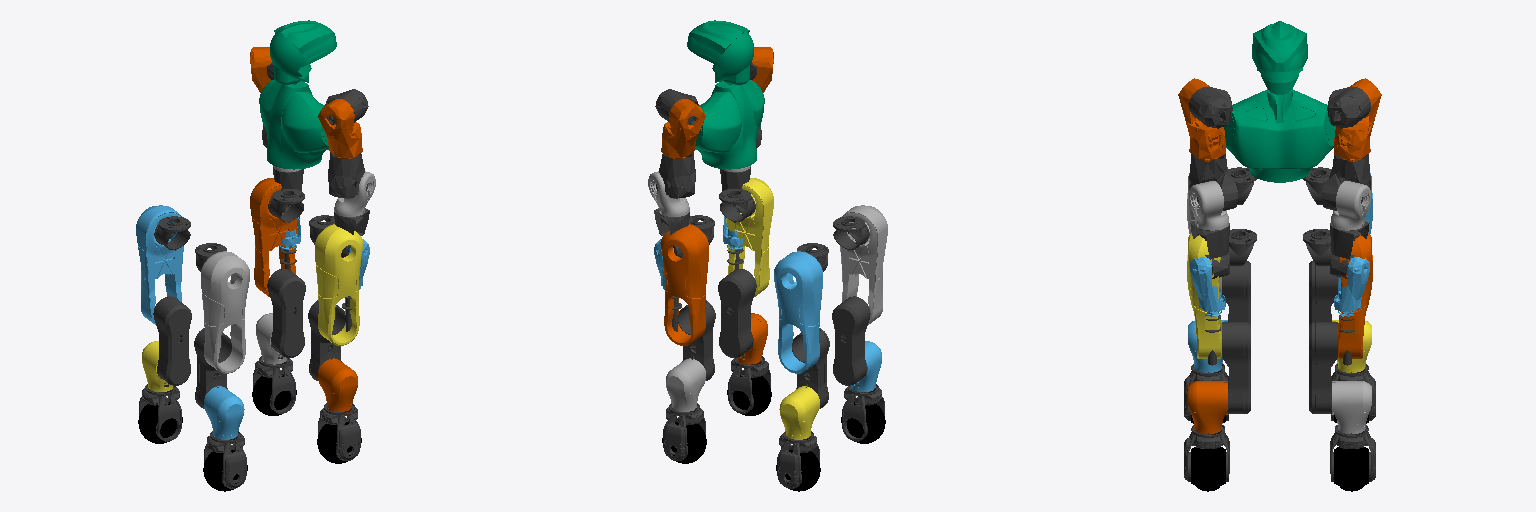
--- Render facts (derived) ---
Views: 3 orthographic renders of the robot side by side, from view 1: azimuth 30°, elevation 25°; view 2: azimuth 150°, elevation 25°; view 3: azimuth 270°, elevation 25°.
Robot: centauro — 44 links, 43 joints (35 revolute, 4 continuous, 4 fixed); root link world; default pose: all joints at 0.
Links seen in each view (by area): view 1: torso_2, hip2_4, hip2_2, hip2_3, knee_1, knee_3, hip2_1, arm2_2, ankle1_4, ankle1_2, ankle2_4, ankle2_2 (+17 smaller); view 2: torso_2, hip2_3, hip2_1, hip2_4, knee_2, knee_4, hip2_2, arm1_2, ankle1_3, ankle1_1, ankle2_3, ankle2_1 (+18 smaller); view 3: torso_2, knee_1, knee_2, hip2_1, hip2_2, ankle1_1, ankle1_2, arm1_2, arm2_2, arm1_4, arm2_4, knee_3 (+21 smaller).
Link boxes in pixels (x1,y1,x2,y2): torso_2: (259,20,336,169); hip2_4: (201,251,249,373); hip2_2: (315,224,363,345); hip2_3: (136,205,183,324); knee_1: (267,269,305,357); knee_3: (153,296,191,385); hip2_1: (250,178,297,296); arm2_2: (318,99,362,158); ankle1_4: (204,386,244,439); ankle1_2: (318,358,357,411); ankle2_4: (204,431,246,488); ankle2_2: (318,403,360,460); torso_2: (687,20,764,169); hip2_3: (774,251,822,373); hip2_1: (660,224,708,345); hip2_4: (840,205,887,324); knee_2: (718,269,756,357); knee_4: (832,296,870,385); hip2_2: (726,178,773,296); arm1_2: (661,99,705,158); ankle1_3: (779,386,819,439); ankle1_1: (666,358,705,411); ankle2_3: (777,431,819,488); ankle2_1: (663,403,705,460); torso_2: (1224,21,1335,182); knee_1: (1309,322,1337,414); knee_2: (1222,322,1250,414); hip2_1: (1338,233,1372,358); hip2_2: (1187,233,1221,358); ankle1_1: (1332,381,1371,433); ankle1_2: (1188,381,1227,433); arm1_2: (1334,78,1381,161); arm2_2: (1178,78,1225,161); arm1_4: (1331,181,1371,230); arm2_4: (1188,181,1228,230); knee_3: (1309,261,1337,324).
Size in the robot's own frame: 0.6633 by 0.6319 by 1.57 metres.
Meshes: 16 distinct files referenced, 41 mesh visuals loaded (15 binary STL); not drawn: 1 (reference not matched to a file when rendering).

robot.urdf — centauro:
<?xml version="1.0" ?>
<!-- =================================================================================== -->
<!-- |    This document was autogenerated by xacro from centauro_urdf/urdf/centauro.urdf.xacro | -->
<!-- |    EDITING THIS FILE BY HAND IS NOT RECOMMENDED                                 | -->
<!-- =================================================================================== -->
<robot name="centauro" xmlns:xacro="http://www.ros.org/wiki/xacro">
  <!-- /constants -->
  <!-- Here all arguments from launch file are evaluated to the final xacro poropeties.
     Also all the parameter dependencies are resolved-->
  <material name="grey">
    <color rgba="0.5 0.5 0.5 1"/>
  </material>
  <material name="dark_grey">
    <color rgba="0.3 0.3 0.3 1"/>
  </material>
  <material name="blue">
    <color rgba="0.0 0.2 0.3 1"/>
  </material>
  <material name="red">
    <color rgba="0.5 0.1 0.2 1"/>
  </material>
  <material name="black">
    <color rgba="0.0 0.0 0.0 1"/>
  </material>
  <!-- Here all arguments from launch file are evaluated to the final xacro poropeties.
     Also all the parameter dependencies are resolved-->
  <!-- load proper collision model -->
  <!-- load proper collision model -->
  <!-- load proper collision model -->
  <!-- Here all arguments from launch file are evaluated to the final xacro poropeties.
     Also all the parameter dependencies are resolved-->
  <!-- load proper collision model -->
  <!-- load proper collision model -->
  <!-- load proper collision model -->
  <!-- /macro legs -->
  <!-- /macro arms -->
  <!-- /other files -->
  <!-- reference -->
  <link name="world"/>
  <link name="pelvis">
    <inertial>
      <origin xyz="-0.013541342 -0.0029098264 0.18060721"/>
      <mass value="24.190945"/>
      <inertia ixx="0.20021119" ixy="-0.0038421093" ixz="-0.033298849" iyy="0.51136214" iyz="0.004469847" izz="0.54401411"/>
    </inertial>
    <visual>
      <origin rpy="0.0 0.0 0.0" xyz="0.0 0 0.0"/>
      <geometry>
        <mesh filename="package://centauro/centauro_urdf/meshes/pelvis.stl" scale="0.001 0.001 0.001"/>
      </geometry>
    </visual>
    <collision>
      <origin rpy="0.0 0.0 0.0" xyz="0.0 0 0.0"/>
      <geometry>
        <mesh filename="package://centauro/centauro_urdf/meshes/convex_hull/pelvis.stl" scale="0.001 0.001 0.001"/>
      </geometry>
    </collision>
  </link>
  <joint name="reference" type="fixed">
    <origin xyz="0.0 0.0 0.759"/>
    <parent link="world"/>
    <child link="pelvis"/>
  </joint>
  <!-- /reference  -->
  <!-- torso links -->
  <link name="torso_2">
    <inertial>
      <origin xyz="0.0047281261 0.00038307386 0.14972892"/>
      <mass value="4.5494226"/>
      <!-- mass  7: torso_1 (2) + torso_2 (5), head un_modelled -->
      <inertia ixx="0.063643392" ixy="8.939e-05" ixz="-0.00086873" iyy="0.02680235" iyz="-4.657e-05" izz="0.04743015"/>
    </inertial>
    <visual>
      <origin rpy="0.0 0.0 0.0" xyz="0.0 0 0.0"/>
      <geometry>
        <mesh filename="package://centauro/centauro_urdf/meshes/link1.stl" scale="0.001 0.001 0.001"/>
      </geometry>
    </visual>
    <collision>
      <origin rpy="0.0 0.0 0.0" xyz="0.0 0 0.0"/>
      <geometry>
        <mesh filename="package://centauro/centauro_urdf/meshes/convex_hull/link1.stl" scale="0.001 0.001 0.001"/>
      </geometry>
    </collision>
  </link>
  <link name="imu_link">
    <inertial>
      <mass value="0.0"/>
      <!-- mass  7: torso_1 (2) + torso_2 (5), head un_modelled -->
      <inertia ixx="0.0" ixy="0.0" ixz="0.0" iyy="0.0" iyz="0.0" izz="0.0"/>
    </inertial>
  </link>
  <!-- /torso links -->
  <!-- torso joints -->
  <joint name="torso_yaw" type="revolute">
    <parent link="pelvis"/>
    <origin xyz="0.175 0.0 0.36"/>
    <child link="torso_2"/>
    <axis xyz="0 0 1"/>
    <limit effort="147" lower="-2.618" upper="2.618" velocity="5.7"/>
    <!-- TODO -->
  </joint>
  <joint name="imu_joint" type="fixed">
    <parent link="pelvis"/>
    <origin xyz="-0.0704 0.0 -0.0416"/>
    <child link="imu_link"/>
  </joint>
  <!-- /torso joints -->
  <transmission name="t_torso_yaw">
    <type> transmission_interface/SimpleTransmission</type>
    <joint name="torso_yaw">
      <hardwareInterface>EffortJointInterface</hardwareInterface>
    </joint>
    <actuator name="motor_torso_yaw">
      <hardwareInterface>EffortJointInterface</hardwareInterface>
      <machanicalReduction>1</machanicalReduction>
    </actuator>
    <robotNamespace>/centauro</robotNamespace>
  </transmission>
  <!-- /torso actuators -->
  <!-- /torso -->
  <!-- LINKS -->
  <!-- shoulder yaw-roll-->
  <link name="arm1_1">
    <inertial>
      <origin xyz="-0.0031005886 0.040324584 0.007451937"/>
      <mass value="1.5583338"/>
      <inertia ixx="0.0032318636" ixy="4.24587e-05" ixz="4.91626e-05" iyy="0.00275718" iyz="-0.0002387056" izz="0.004275047"/>
    </inertial>
    <visual>
      <origin rpy="0.0 0.0 0.0" xyz="0.0 0.0 0.0"/>
      <geometry>
        <mesh filename="package://centauro/centauro_urdf/meshes/link2.stl" scale="0.001 -0.001 0.001"/>
      </geometry>
      <material name="dark_grey"/>
    </visual>
    <collision>
      <origin rpy="0.0 0.0 0.0" xyz="0.0 0.0 0.0"/>
      <geometry>
        <mesh filename="package://centauro/centauro_urdf/meshes/convex_hull/link2.stl" scale="0.001 -0.001 0.001"/>
      </geometry>
    </collision>
  </link>
  <!-- shoulder yaw-roll-->
  <!-- shoulder roll-pitch-->
  <link name="arm1_2">
    <inertial>
      <origin xyz="0.05105435 0.00011109 -0.07643596"/>
      <mass value="1.515061"/>
      <inertia ixx="0.01029558" ixy="2.846e-05" ixz="0.0036567" iyy="0.01178018" iyz="2.088e-05" izz="0.00386123"/>
    </inertial>
    <visual>
      <origin rpy="0.0 0.0 0.0" xyz="0.0 0.0 0.0"/>
      <geometry>
        <mesh filename="package://centauro/centauro_urdf/meshes/link3.stl" scale="0.001 -0.001 0.001"/>
      </geometry>
    </visual>
    <collision>
      <origin rpy="0.0 0.0 0.0" xyz="0.0 0.0 0.0"/>
      <geometry>
        <mesh filename="package://centauro/centauro_urdf/meshes/convex_hull/link3.stl" scale="0.001 -0.001 0.001"/>
      </geometry>
    </collision>
  </link>
  <!-- shoulder roll-pitch-->
  <!-- shoulder-elbow -->
  <link name="arm1_3">
    <inertial>
      <origin xyz="0.01207624 0.00322013 -0.03427312"/>
      <mass value="1.5088101"/>
      <inertia ixx="0.00469819" ixy="-0.00026547" ixz="0.00077706" iyy="0.00501755" iyz="0.00029679" izz="0.00310954"/>
    </inertial>
    <visual>
      <origin rpy="0.0 0.0 0.0" xyz="0.0 0.0 0.0"/>
      <geometry>
        <mesh filename="package://centauro/centauro_urdf/meshes/link4.stl" scale="0.001 -0.001 0.001"/>
      </geometry>
      <material name="dark_grey"/>
    </visual>
    <collision>
      <origin rpy="0.0 0.0 0.0" xyz="0.0 0.0 0.0"/>
      <geometry>
        <mesh filename="package://centauro/centauro_urdf/meshes/convex_hull/link4.stl" scale="0.001 -0.001 0.001"/>
      </geometry>
    </collision>
  </link>
  <!-- /shoulder-elbow -->
  <!-- elbow yaw-pitch -->
  <link name="arm1_4">
    <inertial>
      <origin xyz="0.010147552 -0.029928537 -0.032528288"/>
      <mass value="0.96297329"/>
      <inertia ixx="0.0026493567" ixy="5.1632e-06" ixz="0.0001292309" iyy="0.0023470955" iyz="-0.0007895755" izz="0.0012213063"/>
    </inertial>
    <visual>
      <origin rpy="0.0 0.0 0.0" xyz="0.0 0.0 0.0"/>
      <geometry>
        <mesh filename="package://centauro/centauro_urdf/meshes/link5.stl" scale="0.001 -0.001 0.001"/>
      </geometry>
    </visual>
    <collision>
      <origin rpy="0.0 0.0 0.0" xyz="0.0 0.0 0.0"/>
      <geometry>
        <mesh filename="package://centauro/centauro_urdf/meshes/convex_hull/link5.stl" scale="0.001 -0.001 0.001"/>
      </geometry>
    </collision>
  </link>
  <!-- /elbow yaw-pitch -->
  <!-- elbow-wrist -->
  <link name="arm1_5">
    <inertial>
      <origin xyz="-0.0001574443 0.0041320907 -0.10756614"/>
      <mass value="1.4703698"/>
      <inertia ixx="0.0064160453" ixy="1.96382e-05" ixz="2.49912e-05" iyy="0.0062016367" iyz="-0.0001987903" izz="0.0017091658"/>
    </inertial>
    <visual>
      <origin rpy="0.0 0.0 0.0" xyz="0.0 0.0 0.0"/>
      <geometry>
        <mesh filename="package://centauro/centauro_urdf/meshes/link6.stl" scale="0.001 -0.001 0.001"/>
      </geometry>
      <material name="dark_grey"/>
    </visual>
    <collision>
      <origin rpy="0.0 0.0 0.0" xyz="0.0 0.0 0.0"/>
      <geometry>
        <mesh filename="package://centauro/centauro_urdf/meshes/convex_hull/link6.stl" scale="0.001 -0.001 0.001"/>
      </geometry>
    </collision>
  </link>
  <!-- /elbow-wrist -->
  <!-- wrist yaw-pitch -->
  <link name="arm1_6">
    <inertial>
      <origin xyz="3.23645e-05 -0.035947237 -0.080878061"/>
      <mass value="0.94693868"/>
      <inertia ixx="0.0036896582" ixy="2.63667e-05" ixz="1.4005e-06" iyy="0.0034146283" iyz="-0.0008268103" izz="0.0010790183"/>
    </inertial>
    <visual>
      <origin rpy="0.0 0.0 0.0" xyz="0.0 0.0 0.0"/>
      <geometry>
        <mesh filename="package://centauro/centauro_urdf/meshes/link7.stl" scale="0.001 -0.001 0.001"/>
      </geometry>
    </visual>
    <collision>
      <origin rpy="0.0 0.0 0.0" xyz="0.0 0.0 0.0"/>
      <geometry>
        <mesh filename="package://centauro/centauro_urdf/meshes/convex_hull/link7.stl" scale="0.001 -0.001 0.001"/>
      </geometry>
    </collision>
  </link>
  <!-- /wrist yaw-pitch -->
  <link name="arm1_7">
    <inertial>
      <origin xyz="2.46596e-05 -0.0001467705 -0.0052993013"/>
      <mass value="0.55981036"/>
      <inertia ixx="0.0004360175" ixy="1.397e-07" ixz="-1.382e-07" iyy="0.0004299166" iyz="-1.4752e-06" izz="0.0004522224"/>
    </inertial>
    <visual>
      <origin rpy="0.0 0.0 0.0" xyz="0.0 0.0 0.0"/>
      <geometry>
        <mesh filename="package://centauro/centauro_urdf/meshes/link8.stl" scale="0.001 -0.001 0.001"/>
      </geometry>
      <material name="dark_grey"/>
    </visual>
    <collision>
      <origin rpy="0.0 0.0 0.0" xyz="0.0 0.0 0.0"/>
      <geometry>
        <mesh filename="package://centauro/centauro_urdf/meshes/convex_hull/link8.stl" scale="0.001 -0.001 0.001"/>
      </geometry>
    </collision>
  </link>
  <!-- /LINKS -->
  <!-- JOINTS -->
  <!-- shoulder yaw -->
  <joint name="j_arm1_1" type="revolute">
    <parent link="torso_2"/>
    <child link="arm1_1"/>
    <origin rpy="0.0 0.0 -0.523602668986" xyz="0.04576 0.169137 0.190626"/>
    <axis xyz="0 0.984807753012 0.173648177667"/>
    <limit effort="147" lower="-3.403" upper="1.658" velocity="5.7"/>
  </joint>
  <!-- /shoulder yaw -->
  <!-- shoulder roll -->
  <joint name="j_arm1_2" type="revolute">
    <parent link="arm1_1"/>
    <child link="arm1_2"/>
    <origin xyz="-0.09115 0.06106 0.010766"/>
    <axis xyz="-1 0 0"/>
    <limit effort="147" lower="-3.49" upper="0" velocity="5.7"/>
  </joint>
  <!-- /shoulder roll -->
  <!-- shoulder pitch-->
  <joint name="j_arm1_3" type="revolute">
    <parent link="arm1_2"/>
    <child link="arm1_3"/>
    <origin xyz="0.09115 0.0 -0.21915"/>
    <axis xyz="0 0 -1"/>
    <limit effort="147" lower="-2.618" upper="2.618" velocity="8.2"/>
  </joint>
  <!-- /shoulder pitch -->
  <!-- elbow yaw -->
  <joint name="j_arm1_4" type="revolute">
    <parent link="arm1_3"/>
    <child link="arm1_4"/>
    <origin xyz="0.04 0.05615 -0.074"/>
    <axis xyz="0 1 0"/>
    <limit effort="147" lower="-2.530" upper="0.349" velocity="8.2"/>
  </joint>
  <!-- /elbow yaw -->
  <!-- elbow pitch-->
  <joint name="j_arm1_5" type="revolute">
    <parent link="arm1_4"/>
    <child link="arm1_5"/>
    <origin xyz="-0.015 -0.05615 -0.061"/>
    <axis xyz="0 0 -1"/>
    <limit effort="55" lower="-2.618" upper="2.618" velocity="11.6"/>
  </joint>
  <!-- /elbow pitch-->
  <!-- wrist yaw-->
  <joint name="j_arm1_6" type="revolute">
    <parent link="arm1_5"/>
    <child link="arm1_6"/>
    <origin xyz="0.0 0.049 -0.18"/>
    <axis xyz="0 1 0"/>
    <limit effort="55" lower="-1.570" upper="1.570" velocity="11.6"/>
  </joint>
  <!-- /wrist yaw-->
  <!-- wrist pitch-->
  <joint name="j_arm1_7" type="revolute">
    <parent link="arm1_6"/>
    <child link="arm1_7"/>
    <origin xyz="0.0 -0.049 -0.169"/>
    <axis xyz="0 0 -1"/>
    <limit effort="27" lower="-2.618" upper="2.618" velocity="20.3"/>
  </joint>
  <!-- wrist pitch-->
  <!-- force-troque sensor -->
  <transmission name="t_j_arm1_1">
    <type> transmission_interface/SimpleTransmission</type>
    <joint name="j_arm1_1">
      <hardwareInterface>EffortJointInterface</hardwareInterface>
    </joint>
    <actuator name="motor_j_arm1_1">
      <hardwareInterface>EffortJointInterface</hardwareInterface>
      <machanicalReduction>1</machanicalReduction>
    </actuator>
    <robotNamespace>/centauro</robotNamespace>
  </transmission>
  <transmission name="t_j_arm1_2">
    <type> transmission_interface/SimpleTransmission</type>
    <joint name="j_arm1_2">
      <hardwareInterface>EffortJointInterface</hardwareInterface>
    </joint>
    <actuator name="motor_j_arm1_2">
      <hardwareInterface>EffortJointInterface</hardwareInterface>
      <machanicalReduction>1</machanicalReduction>
    </actuator>
    <robotNamespace>/centauro</robotNamespace>
  </transmission>
  <transmission name="t_j_arm1_3">
    <type> transmission_interface/SimpleTransmission</type>
    <joint name="j_arm1_3">
      <hardwareInterface>EffortJointInterface</hardwareInterface>
    </joint>
    <actuator name="motor_j_arm1_3">
      <hardwareInterface>EffortJointInterface</hardwareInterface>
      <machanicalReduction>1</machanicalReduction>
    </actuator>
    <robotNamespace>/centauro</robotNamespace>
  </transmission>
  <transmission name="t_j_arm1_4">
    <type> transmission_interface/SimpleTransmission</type>
    <joint name="j_arm1_4">
      <hardwareInterface>EffortJointInterface</hardwareInterface>
    </joint>
    <actuator name="motor_j_arm1_4">
      <hardwareInterface>EffortJointInterface</hardwareInterface>
      <machanicalReduction>1</machanicalReduction>
    </actuator>
    <robotNamespace>/centauro</robotNamespace>
  </transmission>
  <transmission name="t_j_arm1_5">
    <type> transmission_interface/SimpleTransmission</type>
    <joint name="j_arm1_5">
      <hardwareInterface>EffortJointInterface</hardwareInterface>
    </joint>
    <actuator name="motor_j_arm1_5">
      <hardwareInterface>EffortJointInterface</hardwareInterface>
      <machanicalReduction>1</machanicalReduction>
    </actuator>
    <robotNamespace>/centauro</robotNamespace>
  </transmission>
  <transmission name="t_j_arm1_6">
    <type> transmission_interface/SimpleTransmission</type>
    <joint name="j_arm1_6">
      <hardwareInterface>EffortJointInterface</hardwareInterface>
    </joint>
    <actuator name="motor_j_arm1_6">
      <hardwareInterface>EffortJointInterface</hardwareInterface>
      <machanicalReduction>1</machanicalReduction>
    </actuator>
    <robotNamespace>/centauro</robotNamespace>
  </transmission>
  <transmission name="t_j_arm1_7">
    <type> transmission_interface/SimpleTransmission</type>
    <joint name="j_arm1_7">
      <hardwareInterface>EffortJointInterface</hardwareInterface>
    </joint>
    <actuator name="motor_j_arm1_7">
      <hardwareInterface>EffortJointInterface</hardwareInterface>
      <machanicalReduction>1</machanicalReduction>
    </actuator>
    <robotNamespace>/centauro</robotNamespace>
  </transmission>
  <!-- /actuators -->
  <!-- end-effector -->
  <!-- links -->
  <link name="arm1_8">
    <inertial>
      <origin rpy="0 0 0" xyz="0.001 0.0 0.006"/>
      <mass value="0.15"/>
      <inertia ixx="0.0002" ixy="0.0" ixz="0.0" iyy="0.0002" iyz="0.0" izz="1e-05"/>
      <!--          <inertia ixx="0.003"  ixy="0"  ixz="0" iyy="0.0025" iyz="0" izz="0.00016900" /> -->
    </inertial>
    <visual>
      <origin rpy="0.0 0.0 0.0" xyz="0.0 0.0 0.0"/>
      <geometry>
        <mesh filename="package://centauro/centauro_urdf/meshes/link9.stl" scale="0.001 -0.001 -0.001"/>
      </geometry>
      <material name="dark_grey"/>
    </visual>
    <collision>
      <origin rpy="0.0 0.0 0.0" xyz="0.0 0.0 0.0"/>
      <geometry>
        <mesh filename="package://centauro/centauro_urdf/meshes/convex_hull/link9.stl" scale="0.001 -0.001 -0.001"/>
      </geometry>
    </collision>
  </link>
  <!-- /links -->
  <!-- joints -->
  <joint name="j_arm1_8" type="fixed">
    <parent link="arm1_7"/>
    <child link="arm1_8"/>
    <origin rpy="0.0 3.14159265359 -1.5707963268" xyz="0.0 0.0 -0.0405"/>
    <axis xyz="1 0 0"/>
    <limit effort="0" lower="0.0" upper="0" velocity="0"/>
  </joint>
   --&gt;

  <!-- /joints -->
  <!-- /end-effector -->
  <!-- LINKS -->
  <!-- shoulder yaw-roll-->
  <link name="arm2_1">
    <inertial>
      <origin xyz="-0.0031005886 -0.040324584 0.007451937"/>
      <mass value="1.5583338"/>
      <inertia ixx="0.0032318636" ixy="-4.24587e-05" ixz="4.91626e-05" iyy="0.00275718" iyz="0.0002387056" izz="0.004275047"/>
    </inertial>
    <visual>
      <origin rpy="0.0 0.0 0.0" xyz="0.0 0.0 0.0"/>
      <geometry>
        <mesh filename="package://centauro/centauro_urdf/meshes/link2.stl" scale="0.001 0.001 0.001"/>
      </geometry>
      <material name="dark_grey"/>
    </visual>
    <collision>
      <origin rpy="0.0 0.0 0.0" xyz="0.0 0.0 0.0"/>
      <geometry>
        <mesh filename="package://centauro/centauro_urdf/meshes/convex_hull/link2.stl" scale="0.001 0.001 0.001"/>
      </geometry>
    </collision>
  </link>
  <!-- shoulder yaw-roll-->
  <!-- shoulder roll-pitch-->
  <link name="arm2_2">
    <inertial>
      <origin xyz="0.05105435 -0.00011109 -0.07643596"/>
      <mass value="1.515061"/>
      <inertia ixx="0.01029558" ixy="-2.846e-05" ixz="0.0036567" iyy="0.01178018" iyz="-2.088e-05" izz="0.00386123"/>
    </inertial>
    <visual>
      <origin rpy="0.0 0.0 0.0" xyz="0.0 0.0 0.0"/>
      <geometry>
        <mesh filename="package://centauro/centauro_urdf/meshes/link3.stl" scale="0.001 0.001 0.001"/>
      </geometry>
    </visual>
    <collision>
      <origin rpy="0.0 0.0 0.0" xyz="0.0 0.0 0.0"/>
      <geometry>
        <mesh filename="package://centauro/centauro_urdf/meshes/convex_hull/link3.stl" scale="0.001 0.001 0.001"/>
      </geometry>
    </collision>
  </link>
  <!-- shoulder roll-pitch-->
  <!-- shoulder-elbow -->
  <link name="arm2_3">
    <inertial>
      <origin xyz="0.01207624 -0.00322013 -0.03427312"/>
      <mass value="1.5088101"/>
      <inertia ixx="0.00469819" ixy="0.00026547" ixz="0.00077706" iyy="0.00501755" iyz="-0.00029679" izz="0.00310954"/>
    </inertial>
    <visual>
      <origin rpy="0.0 0.0 0.0" xyz="0.0 0.0 0.0"/>
      <geometry>
        <mesh filename="package://centauro/centauro_urdf/meshes/link4.stl" scale="0.001 0.001 0.001"/>
      </geometry>
      <material name="dark_grey"/>
    </visual>
    <collision>
      <origin rpy="0.0 0.0 0.0" xyz="0.0 0.0 0.0"/>
      <geometry>
        <mesh filename="package://centauro/centauro_urdf/meshes/convex_hull/link4.stl" scale="0.001 0.001 0.001"/>
      </geometry>
    </collision>
  </link>
  <!-- /shoulder-elbow -->
  <!-- elbow yaw-pitch -->
  <link name="arm2_4">
    <inertial>
      <origin xyz="0.010147552 0.029928537 -0.032528288"/>
      <mass value="0.96297329"/>
      <inertia ixx="0.0026493567" ixy="-5.1632e-06" ixz="0.0001292309" iyy="0.0023470955" iyz="0.0007895755" izz="0.0012213063"/>
    </inertial>
    <visual>
      <origin rpy="0.0 0.0 0.0" xyz="0.0 0.0 0.0"/>
      <geometry>
        <mesh filename="package://centauro/centauro_urdf/meshes/link5.stl" scale="0.001 0.001 0.001"/>
      </geometry>
    </visual>
    <collision>
      <origin rpy="0.0 0.0 0.0" xyz="0.0 0.0 0.0"/>
      <geometry>
        <mesh filename="package://centauro/centauro_urdf/meshes/convex_hull/link5.stl" scale="0.001 0.001 0.001"/>
      </geometry>
    </collision>
  </link>
  <!-- /elbow yaw-pitch -->
  <!-- elbow-wrist -->
  <link name="arm2_5">
    <inertial>
      <origin xyz="-0.0001574443 -0.0041320907 -0.10756614"/>
      <mass value="1.4703698"/>
      <inertia ixx="0.0064160453" ixy="-1.96382e-05" ixz="2.49912e-05" iyy="0.0062016367" iyz="0.0001987903" izz="0.0017091658"/>
    </inertial>
    <visual>
      <origin rpy="0.0 0.0 0.0" xyz="0.0 0.0 0.0"/>
      <geometry>
        <mesh filename="package://centauro/centauro_urdf/meshes/link6.stl" scale="0.001 0.001 0.001"/>
      </geometry>
      <material name="dark_grey"/>
    </visual>
    <collision>
      <origin rpy="0.0 0.0 0.0" xyz="0.0 0.0 0.0"/>
      <geometry>
        <mesh filename="package://centauro/centauro_urdf/meshes/convex_hull/link6.stl" scale="0.001 0.001 0.001"/>
      </geometry>
    </collision>
  </link>
  <!-- /elbow-wrist -->
  <!-- wrist yaw-pitch -->
  <link name="arm2_6">
    <inertial>
      <origin xyz="3.23645e-05 0.035947237 -0.080878061"/>
      <mass value="0.94693868"/>
      <inertia ixx="0.0036896582" ixy="-2.63667e-05" ixz="1.4005e-06" iyy="0.0034146283" iyz="0.0008268103" izz="0.0010790183"/>
    </inertial>
    <visual>
      <origin rpy="0.0 0.0 0.0" xyz="0.0 0.0 0.0"/>
      <geometry>
        <mesh filename="package://centauro/centauro_urdf/meshes/link7.stl" scale="0.001 0.001 0.001"/>
      </geometry>
    </visual>
    <collision>
      <origin rpy="0.0 0.0 0.0" xyz="0.0 0.0 0.0"/>
      <geometry>
        <mesh filename="package://centauro/centauro_urdf/meshes/convex_hull/link7.stl" scale="0.001 0.001 0.001"/>
      </geometry>
    </collision>
  </link>
  <!-- /wrist yaw-pitch -->
  <link name="arm2_7">
    <inertial>
      <origin xyz="2.46596e-05 0.0001467705 -0.0052993013"/>
      <mass value="0.55981036"/>
      <inertia ixx="0.0004360175" ixy="-1.397e-07" ixz="-1.382e-07" iyy="0.0004299166" iyz="1.4752e-06" izz="0.0004522224"/>
    </inertial>
    <visual>
      <origin rpy="0.0 0.0 0.0" xyz="0.0 0.0 0.0"/>
      <geometry>
        <mesh filename="package://centauro/centauro_urdf/meshes/link8.stl" scale="0.001 0.001 0.001"/>
      </geometry>
      <material name="dark_grey"/>
    </visual>
    <collision>
      <origin rpy="0.0 0.0 0.0" xyz="0.0 0.0 0.0"/>
      <geometry>
        <mesh filename="package://centauro/centauro_urdf/meshes/convex_hull/link8.stl" scale="0.001 0.001 0.001"/>
      </geometry>
    </collision>
  </link>
  <!-- /LINKS -->
  <!-- JOINTS -->
  <!-- shoulder yaw -->
  <joint name="j_arm2_1" type="revolute">
    <parent link="torso_2"/>
    <child link="arm2_1"/>
    <origin rpy="0.0 0.0 0.523602668986" xyz="0.04576 -0.169137 0.190626"/>
    <axis xyz="0 -0.984807753012 0.173648177667"/>
    <limit effort="147" lower="-1.658" upper="3.403" velocity="5.7"/>
  </joint>
  <!-- /shoulder yaw -->
  <!-- shoulder roll -->
  <joint name="j_arm2_2" type="revolute">
    <parent link="arm2_1"/>
    <child link="arm2_2"/>
    <origin xyz="-0.09115 -0.06106 0.010766"/>
    <axis xyz="-1 0 0"/>
    <limit effort="147" lower="0" upper="3.49" velocity="5.7"/>
  </joint>
  <!-- /shoulder roll -->
  <!-- shoulder pitch-->
  <joint name="j_arm2_3" type="revolute">
    <parent link="arm2_2"/>
    <child link="arm2_3"/>
    <origin xyz="0.09115 0.0 -0.21915"/>
    <axis xyz="0 0 -1"/>
    <limit effort="147" lower="-2.618" upper="2.618" velocity="8.2"/>
  </joint>
  <!-- /shoulder pitch -->
  <!-- elbow yaw -->
  <joint name="j_arm2_4" type="revolute">
    <parent link="arm2_3"/>
    <child link="arm2_4"/>
    <origin xyz="0.04 -0.05615 -0.074"/>
    <axis xyz="0 -1 0"/>
    <limit effort="147" lower="-0.349" upper="2.530" velocity="8.2"/>
  </joint>
  <!-- /elbow yaw -->
  <!-- elbow pitch-->
  <joint name="j_arm2_5" type="revolute">
    <parent link="arm2_4"/>
    <child link="arm2_5"/>
    <origin xyz="-0.015 0.05615 -0.061"/>
    <axis xyz="0 0 -1"/>
    <limit effort="55" lower="-2.618" upper="2.618" velocity="11.6"/>
  </joint>
  <!-- /elbow pitch-->
  <!-- wrist yaw-->
  <joint name="j_arm2_6" type="revolute">
    <parent link="arm2_5"/>
    <child link="arm2_6"/>
    <origin xyz="0.0 -0.049 -0.18"/>
    <axis xyz="0 -1 0"/>
    <limit effort="55" lower="-1.570" upper="1.570" velocity="11.6"/>
  </joint>
  <!-- /wrist yaw-->
  <!-- wrist pitch-->
  <joint name="j_arm2_7" type="revolute">
    <parent link="arm2_6"/>
    <child link="arm2_7"/>
    <origin xyz="0.0 0.049 -0.169"/>
    <axis xyz="0 0 -1"/>
    <limit effort="27" lower="-2.618" upper="2.618" velocity="20.3"/>
  </joint>
  <!-- wrist pitch-->
  <!-- force-troque sensor -->
  <transmission name="t_j_arm2_1">
    <type> transmission_interface/SimpleTransmission</type>
    <joint name="j_arm2_1">
      <hardwareInterface>EffortJointInterface</hardwareInterface>
    </joint>
    <actuator name="motor_j_arm2_1">
      <hardwareInterface>EffortJointInterface</hardwareInterface>
      <machanicalReduction>1</machanicalReduction>
    </actuator>
    <robotNamespace>/centauro</robotNamespace>
  </transmission>
  <transmission name="t_j_arm2_2">
    <type> transmission_interface/SimpleTransmission</type>
    <joint name="j_arm2_2">
      <hardwareInterface>EffortJointInterface</hardwareInterface>
    </joint>
    <actuator name="motor_j_arm2_2">
      <hardwareInterface>EffortJointInterface</hardwareInterface>
      <machanicalReduction>1</machanicalReduction>
    </actuator>
    <robotNamespace>/centauro</robotNamespace>
  </transmission>
  <transmission name="t_j_arm2_3">
    <type> transmission_interface/SimpleTransmission</type>
    <joint name="j_arm2_3">
      <hardwareInterface>EffortJointInterface</hardwareInterface>
    </joint>
    <actuator name="motor_j_arm2_3">
      <hardwareInterface>EffortJointInterface</hardwareInterface>
      <machanicalReduction>1</machanicalReduction>
    </actuator>
    <robotNamespace>/centauro</robotNamespace>
  </transmission>
  <transmission name="t_j_arm2_4">
    <type> transmission_interface/SimpleTransmission</type>
    <joint name="j_arm2_4">
      <hardwareInterface>EffortJointInterface</hardwareInterface>
    </joint>
    <actuator name="motor_j_arm2_4">
      <hardwareInterface>EffortJointInterface</hardwareInterface>
      <machanicalReduction>1</machanicalReduction>
    </actuator>
    <robotNamespace>/centauro</robotNamespace>
  </transmission>
  <transmission name="t_j_arm2_5">
    <type> transmission_interface/SimpleTransmission</type>
    <joint name="j_arm2_5">
      <hardwareInterface>EffortJointInterface</hardwareInterface>
    </joint>
    <actuator name="motor_j_arm2_5">
      <hardwareInterface>EffortJointInterface</hardwareInterface>
      <machanicalReduction>1</machanicalReduction>
    </actuator>
    <robotNamespace>/centauro</robotNamespace>
  </transmission>
  <transmission name="t_j_arm2_6">
    <type> transmission_interface/SimpleTransmission</type>
    <joint name="j_arm2_6">
      <hardwareInterface>EffortJointInterface</hardwareInterface>
    </joint>
    <actuator name="motor_j_arm2_6">
      <hardwareInterface>EffortJointInterface</hardwareInterface>
      <machanicalReduction>1</machanicalReduction>
    </actuator>
    <robotNamespace>/centauro</robotNamespace>
  </transmission>
  <transmission name="t_j_arm2_7">
    <type> transmission_interface/SimpleTransmission</type>
    <joint name="j_arm2_7">
      <hardwareInterface>EffortJointInterface</hardwareInterface>
    </joint>
    <actuator name="motor_j_arm2_7">
      <hardwareInterface>EffortJointInterface</hardwareInterface>
      <machanicalReduction>1</machanicalReduction>
    </actuator>
    <robotNamespace>/centauro</robotNamespace>
  </transmission>
  <!-- /actuators -->
  <!-- end-effector -->
  <!-- links -->
  <link name="arm2_8">
    <inertial>
      <origin rpy="0 0 0" xyz="0.001 0.0 0.006"/>
      <mass value="0.15"/>
      <inertia ixx="0.0002" ixy="0.0" ixz="0.0" iyy="0.0002" iyz="0.0" izz="1e-05"/>
      <!--          <inertia ixx="0.003"  ixy="0"  ixz="0" iyy="0.0025" iyz="0" izz="0.00016900" /> -->
    </inertial>
    <visual>
      <origin rpy="0.0 0.0 0.0" xyz="0.0 0.0 0.0"/>
      <geometry>
        <mesh filename="package://centauro/centauro_urdf/meshes/link9.stl" scale="0.001 0.001 -0.001"/>
      </geometry>
      <material name="dark_grey"/>
    </visual>
    <collision>
      <origin rpy="0.0 0.0 0.0" xyz="0.0 0.0 0.0"/>
      <geometry>
        <mesh filename="package://centauro/centauro_urdf/meshes/convex_hull/link9.stl" scale="0.001 0.001 -0.001"/>
      </geometry>
    </collision>
  </link>
  <!-- /links -->
  <!-- joints -->
  <joint name="j_arm2_8" type="fixed">
    <parent link="arm2_7"/>
    <child link="arm2_8"/>
    <origin rpy="0.0 3.14159265359 -1.5707963268" xyz="0.0 0.0 -0.0405"/>
    <axis xyz="1 0 0"/>
    <limit effort="0" lower="0.0" upper="0" velocity="0"/>
  </joint>
   --&gt;

  <!-- /joints -->
  <!-- /end-effector -->
  <!-- /arms -->
  <link name="hip1_1">
    <inertial>
      <origin xyz="0.010214199 -0.018348359 0.038090987"/>
      <mass value="1.9194403"/>
      <!-- org: 2 -->
      <inertia ixx="0.0047439572" ixy="0.0005747047" ixz="-0.0003784138" iyy="0.0040551878" iyz="0.0007407508" izz="0.0034146219"/>
      <!-- <inertia ixx="0.01" ixy="0.01" ixz="0.01" iyy="0.01" iyz="0.01" izz="0.01"/> -->
    </inertial>
    <visual>
      <origin rpy="0.0 0.0 4.15579005089" xyz="0.0 0.0 0.0"/>
      <geometry>
        <mesh filename="package://centauro/centauro_urdf/meshes/hip-yaw.stl" scale="0.001 0.001 0.001"/>
      </geometry>
      <material name="dark_grey"/>
    </visual>
    <collision>
      <origin rpy="0.0 0.0 4.15579005089" xyz="0.0 0.0 0.0"/>
      <geometry>
        <mesh filename="package://centauro/centauro_urdf/meshes/convex_hull/hip-yaw.stl" scale="0.001 0.001 0.001"/>
      </geometry>
    </collision>
  </link>
  <link name="hip2_1">
    <inertial>
      <origin xyz="2.57966e-05 0.1810266 0.085669756"/>
      <mass value="2.7264471"/>
      <!-- org: 4.5 -->
      <inertia ixx="0.04851869" ixy="-4.11894e-05" ixz="-1.68778e-05" iyy="0.004242055" iyz="0.0032243188" izz="0.04825583"/>
      <!-- <inertia ixx="0.01" ixy="0.01" ixz="0.01" iyy="0.01" iyz="0.01" izz="0.01"/> -->
    </inertial>
    <visual>
      <origin rpy="0.0 0.0 0.0" xyz="0.0 0.0 0.0"/>
      <geometry>
        <mesh filename="package://centauro/centauro_urdf/meshes/hip-pitch.stl" scale="0.001 0.001 0.001"/>
      </geometry>
    </visual>
    <collision>
      <origin rpy="0.0 0.0 0.0" xyz="0.0 0.0 0.0"/>
      <geometry>
        <mesh filename="package://centauro/centauro_urdf/meshes/convex_hull/hip-pitch.stl" scale="0.001 0.001 0.001"/>
      </geometry>
    </collision>
  </link>
  <link name="knee_1">
    <inertial>
      <origin xyz="0.10881667 0.0001089081 -0.022638996"/>
      <mass value="1.9356754"/>
      <!-- org: 3.5, foot un modeled-->
      <inertia ixx="0.0030534242" ixy="-4.22079e-05" ixz="0.0013679297" iyy="0.019603321" iyz="6.9941e-06" izz="0.019849817"/>
      <!--	<inertia ixx="0.01" ixy="0.01" ixz="0.01" iyy="0.01" iyz="0.01" izz="0.01"/>  -->
    </inertial>
    <visual>
      <origin rpy="0.0 0.0 0.0" xyz="0.0 0.0 0.0"/>
      <geometry>
        <mesh filename="package://centauro/centauro_urdf/meshes/knee.stl" scale="0.001 0.001 0.001"/>
      </geometry>
      <material name="dark_grey"/>
    </visual>
    <collision>
      <origin rpy="0.0 0.0 0.0" xyz="0.0 0.0 0.0"/>
      <geometry>
        <mesh filename="package://centauro/centauro_urdf/meshes/convex_hull/knee.stl" scale="0.001 0.001 0.001"/>
      </geometry>
    </collision>
  </link>
  <link name="ankle1_1">
    <inertial>
      <origin xyz="0.032137318 9.73572e-05 -0.0044222206"/>
      <mass value="1.2380744"/>
      <!-- org: 3.5, foot un modeled-->
      <inertia ixx="0.0015610452" ixy="3.30597e-05" ixz="-0.0001314174" iyy="0.0037423211" iyz="-2.12589e-05" izz="0.0038312442"/>
      <!--	<inertia ixx="0.01" ixy="0.01" ixz="0.01" iyy="0.01" iyz="0.01" izz="0.01"/>  -->
    </inertial>
    <visual>
      <origin rpy="0.0 0.0 0.0" xyz="0.0 0.0 0.0"/>
      <geometry>
        <mesh filename="package://centauro/centauro_urdf/meshes/ankle-pitch.stl" scale="0.001 0.001 0.001"/>
      </geometry>
    </visual>
    <collision>
      <origin rpy="0.0 0.0 0.0" xyz="0.0 0.0 0.0"/>
      <geometry>
        <mesh filename="package://centauro/centauro_urdf/meshes/convex_hull/ankle-pitch.stl" scale="0.001 0.001 0.001"/>
      </geometry>
    </collision>
  </link>
  <link name="ankle2_1">
    <inertial>
      <origin xyz="0.0004435803 0.0004389911 0.19392092"/>
      <mass value="1.1565926"/>
      <!-- org: 3.5, foot un modeled-->
      <inertia ixx="0.0049019475" ixy="4.3032e-06" ixz="3.46491e-05" iyy="0.0038724162" iyz="1.7099e-05" izz="0.0021783198"/>
    </inertial>
    <visual>
      <origin rpy="0.0 0.0 0.0" xyz="0.0 0.0 0.0"/>
      <geometry>
        <mesh filename="package://centauro/centauro_urdf/meshes/ankle-yaw.stl" scale="0.001 0.001 0.001"/>
      </geometry>
      <material name="dark_grey"/>
    </visual>
    <collision>
      <origin rpy="0.0 0.0 0.0" xyz="0.0 0.0 0.0"/>
      <geometry>
        <mesh filename="package://centauro/centauro_urdf/meshes/convex_hull/ankle-yaw.stl" scale="0.001 0.001 0.001"/>
      </geometry>
    </collision>
  </link>
  <link name="wheel_1">
    <inertial>
      <origin xyz="0.0 0.0 0.0024271906"/>
      <mass value="1.7289003"/>
      <!-- org: 3.5, foot un modeled-->
      <inertia ixx="0.0046864297" ixy="0.0" ixz="0.0" iyy="0.0046713489" iyz="0.0" izz="0.0053126029"/>
    </inertial>
    <visual>
      <origin rpy="0.0 0.0 0.0" xyz="0.0 0.0 0.0"/>
      <geometry>
        <mesh filename="package://centauro/centauro_urdf/meshes/wheel.stl" scale="0.001 0.001 0.001"/>
      </geometry>
      <material name="black"/>
    </visual>
    <collision>
      <origin rpy="0.0 0.0 0.0" xyz="0.0 0.0 0.0"/>
      <geometry>
        <mesh filename="package://centauro/centauro_urdf/meshes/convex_hull/wheel.stl" scale="0.001 0.001 0.001"/>
      </geometry>
    </collision>
  </link>
  <joint name="hip_yaw_1" type="revolute">
    <parent link="pelvis"/>
    <child link="hip1_1"/>
    <origin rpy="3.14159265359 0.0 0.50709869865" xyz="0.225 0.125 0.11"/>
    <axis xyz="0 0 1"/>
    <limit effort="304" lower="-0.78539816" upper="2.35619449" velocity="8.8"/>
  </joint>
  <joint name="hip_pitch_1" type="revolute">
    <parent link="hip1_1"/>
    <child link="hip2_1"/>
    <origin rpy="1.57079632679 0.0 0.50709869865" xyz="0.0 0.0 0.059"/>
    <axis xyz="0 0 1"/>
    <limit effort="304" lower="-2.09439510" upper="2.09439510" velocity="8.8"/>
  </joint>
  <joint name="knee_pitch_1" type="revolute">
    <parent link="hip2_1"/>
    <child link="knee_1"/>
    <origin rpy="3.14159265359 0.0 1.57079632679" xyz="0.0 0.3 -0.0036"/>
    <axis xyz="0 0 1"/>
    <limit effort="304" lower="-2.61799388" upper="2.61799388" velocity="8.8"/>
  </joint>
  <joint name="ankle_pitch_1" type="revolute">
    <parent link="knee_1"/>
    <child link="ankle1_1"/>
    <origin rpy="3.14159265359 0.0 0.0" xyz="0.2 0.0 -0.10015"/>
    <axis xyz="0 0 1"/>
    <limit effort="147" lower="-2.61799388" upper="2.61799388" velocity="8.1"/>
  </joint>
  <joint name="ankle_yaw_1" type="revolute">
    <parent link="ankle1_1"/>
    <child link="ankle2_1"/>
    <origin rpy="1.57079632679 0.0 1.57079632679" xyz="0.0 0.0 0.0"/>
    <axis xyz="0 0 1"/>
    <limit effort="35" lower="-2.79252680" upper="2.79252680" velocity="20.0"/>
  </joint>
  <joint name="j_wheel_1" type="continuous">
    <parent link="ankle2_1"/>
    <child link="wheel_1"/>
    <origin rpy="1.57079632679 0.0 0.0" xyz="0.0 0.00085 0.235"/>
    <axis xyz="0 0 1"/>
    <limit effort="35" velocity="20.0"/>
  </joint>
  <!-- /actuators -->
  <link name="hip1_2">
    <inertial>
      <origin xyz="0.010214199 0.018348359 0.038090987"/>
      <mass value="1.9194403"/>
      <!-- org: 2 -->
      <inertia ixx="0.0047439572" ixy="-0.0005747047" ixz="-0.0003784138" iyy="0.0040551878" iyz="-0.0007407508" izz="0.0034146219"/>
      <!-- <inertia ixx="0.01" ixy="0.01" ixz="0.01" iyy="0.01" iyz="0.01" izz="0.01"/> -->
    </inertial>
    <visual>
      <origin rpy="0.0 0.0 0.0" xyz="0.0 0.0 0.0"/>
      <geometry>
        <mesh filename="package://centauro/centauro_urdf/meshes/hip-yaw.stl" scale="0.001 0.001 0.001"/>
      </geometry>
      <material name="dark_grey"/>
    </visual>
    <collision>
      <origin rpy="0.0 0.0 0.0" xyz="0.0 0.0 0.0"/>
      <geometry>
        <mesh filename="package://centauro/centauro_urdf/meshes/convex_hull/hip-yaw.stl" scale="0.001 0.001 0.001"/>
      </geometry>
    </collision>
  </link>
  <link name="hip2_2">
    <inertial>
      <origin xyz="2.57966e-05 0.1810266 0.085669756"/>
      <mass value="2.7264471"/>
      <!-- org: 4.5 -->
      <inertia ixx="0.04851869" ixy="-4.11894e-05" ixz="-1.68778e-05" iyy="0.004242055" iyz="0.0032243188" izz="0.04825583"/>
      <!-- <inertia ixx="0.01" ixy="0.01" ixz="0.01" iyy="0.01" iyz="0.01" izz="0.01"/> -->
    </inertial>
    <visual>
      <origin rpy="0.0 0.0 0.0" xyz="0.0 0.0 0.0"/>
      <geometry>
        <mesh filename="package://centauro/centauro_urdf/meshes/hip-pitch.stl" scale="0.001 0.001 0.001"/>
      </geometry>
    </visual>
    <collision>
      <origin rpy="0.0 0.0 0.0" xyz="0.0 0.0 0.0"/>
      <geometry>
        <mesh filename="package://centauro/centauro_urdf/meshes/convex_hull/hip-pitch.stl" scale="0.001 0.001 0.001"/>
      </geometry>
    </collision>
  </link>
  <link name="knee_2">
    <inertial>
      <origin xyz="0.10881667 0.0001089081 -0.022638996"/>
      <mass value="1.9356754"/>
      <!-- org: 3.5, foot un modeled-->
      <inertia ixx="0.0030534242" ixy="-4.22079e-05" ixz="0.0013679297" iyy="0.019603321" iyz="6.9941e-06" izz="0.019849817"/>
      <!--	<inertia ixx="0.01" ixy="0.01" ixz="0.01" iyy="0.01" iyz="0.01" izz="0.01"/>  -->
    </inertial>
    <visual>
      <origin rpy="0.0 0.0 0.0" xyz="0.0 0.0 0.0"/>
      <geometry>
        <mesh filename="package://centauro/centauro_urdf/meshes/knee.stl" scale="0.001 0.001 0.001"/>
      </geometry>
      <material name="dark_grey"/>
    </visual>
    <collision>
      <origin rpy="0.0 0.0 0.0" xyz="0.0 0.0 0.0"/>
      <geometry>
        <mesh filename="package://centauro/centauro_urdf/meshes/convex_hull/knee.stl" scale="0.001 0.001 0.001"/>
      </geometry>
    </collision>
  </link>
  <link name="ankle1_2">
    <inertial>
      <origin xyz="0.032137318 9.73572e-05 -0.0044222206"/>
      <mass value="1.2380744"/>
      <!-- org: 3.5, foot un modeled-->
      <inertia ixx="0.0015610452" ixy="3.30597e-05" ixz="-0.0001314174" iyy="0.0037423211" iyz="-2.12589e-05" izz="0.0038312442"/>
      <!--	<inertia ixx="0.01" ixy="0.01" ixz="0.01" iyy="0.01" iyz="0.01" izz="0.01"/>  -->
    </inertial>
    <visual>
      <origin rpy="0.0 0.0 0.0" xyz="0.0 0.0 0.0"/>
      <geometry>
        <mesh filename="package://centauro/centauro_urdf/meshes/ankle-pitch.stl" scale="0.001 0.001 0.001"/>
      </geometry>
    </visual>
    <collision>
      <origin rpy="0.0 0.0 0.0" xyz="0.0 0.0 0.0"/>
      <geometry>
        <mesh filename="package://centauro/centauro_urdf/meshes/convex_hull/ankle-pitch.stl" scale="0.001 0.001 0.001"/>
      </geometry>
    </collision>
  </link>
  <link name="ankle2_2">
    <inertial>
      <origin xyz="0.0004435803 0.0004389911 0.19392092"/>
      <mass value="1.1565926"/>
      <!-- org: 3.5, foot un modeled-->
      <inertia ixx="0.0049019475" ixy="4.3032e-06" ixz="3.46491e-05" iyy="0.0038724162" iyz="1.7099e-05" izz="0.0021783198"/>
    </inertial>
    <visual>
      <origin rpy="0.0 0.0 0.0" xyz="0.0 0.0 0.0"/>
      <geometry>
        <mesh filename="package://centauro/centauro_urdf/meshes/ankle-yaw.stl" scale="0.001 0.001 0.001"/>
      </geometry>
      <material name="dark_grey"/>
    </visual>
    <collision>
      <origin rpy="0.0 0.0 0.0" xyz="0.0 0.0 0.0"/>
      <geometry>
        <mesh filename="package://centauro/centauro_urdf/meshes/convex_hull/ankle-yaw.stl" scale="0.001 0.001 0.001"/>
      </geometry>
    </collision>
  </link>
  <link name="wheel_2">
    <inertial>
      <origin xyz="0.0 0.0 0.0024271906"/>
      <mass value="1.7289003"/>
      <!-- org: 3.5, foot un modeled-->
      <inertia ixx="0.0046864297" ixy="0.0" ixz="0.0" iyy="0.0046713489" iyz="0.0" izz="0.0053126029"/>
    </inertial>
    <visual>
      <origin rpy="0.0 0.0 0.0" xyz="0.0 0.0 0.0"/>
      <geometry>
        <mesh filename="package://centauro/centauro_urdf/meshes/wheel.stl" scale="0.001 0.001 0.001"/>
      </geometry>
      <material name="black"/>
    </visual>
    <collision>
      <origin rpy="0.0 0.0 0.0" xyz="0.0 0.0 0.0"/>
      <geometry>
        <mesh filename="package://centauro/centauro_urdf/meshes/convex_hull/wheel.stl" scale="0.001 0.001 0.001"/>
      </geometry>
    </collision>
  </link>
  <joint name="hip_yaw_2" type="revolute">
    <parent link="pelvis"/>
    <child link="hip1_2"/>
    <origin rpy="3.14159265359 0.0 -0.50709869865" xyz="0.225 -0.125 0.11"/>
    <axis xyz="0 0 1"/>
    <limit effort="304" lower="-2.35619449" upper="0.78539816" velocity="8.8"/>
  </joint>
  <joint name="hip_pitch_2" type="revolute">
    <parent link="hip1_2"/>
    <child link="hip2_2"/>
    <origin rpy="1.57079632679 0.0 2.63449395494" xyz="0.0 0.0 0.059"/>
    <axis xyz="0 0 1"/>
    <limit effort="304" lower="-2.09439510" upper="2.09439510" velocity="8.8"/>
  </joint>
  <joint name="knee_pitch_2" type="revolute">
    <parent link="hip2_2"/>
    <child link="knee_2"/>
    <origin rpy="3.14159265359 0.0 1.57079632679" xyz="0.0 0.3 -0.0036"/>
    <axis xyz="0 0 1"/>
    <limit effort="304" lower="-2.61799388" upper="2.61799388" velocity="8.8"/>
  </joint>
  <joint name="ankle_pitch_2" type="revolute">
    <parent link="knee_2"/>
    <child link="ankle1_2"/>
    <origin rpy="3.14159265359 0.0 0.0" xyz="0.2 0.0 -0.10015"/>
    <axis xyz="0 0 1"/>
    <limit effort="147" lower="-2.61799388" upper="2.61799388" velocity="8.1"/>
  </joint>
  <joint name="ankle_yaw_2" type="revolute">
    <parent link="ankle1_2"/>
    <child link="ankle2_2"/>
    <origin rpy="1.57079632679 0.0 1.57079632679" xyz="0.0 0.0 0.0"/>
    <axis xyz="0 0 1"/>
    <limit effort="35" lower="-2.79252680" upper="2.79252680" velocity="20.0"/>
  </joint>
  <joint name="j_wheel_2" type="continuous">
    <parent link="ankle2_2"/>
    <child link="wheel_2"/>
    <origin rpy="1.57079632679 0.0 0.0" xyz="0.0 0.00085 0.235"/>
    <axis xyz="0 0 1"/>
    <limit effort="35" velocity="20.0"/>
  </joint>
  <!-- /actuators -->
  <link name="hip1_3">
    <inertial>
      <origin xyz="0.010214199 0.018348359 0.038090987"/>
      <mass value="1.9194403"/>
      <!-- org: 2 -->
      <inertia ixx="0.0047439572" ixy="-0.0005747047" ixz="-0.0003784138" iyy="0.0040551878" iyz="-0.0007407508" izz="0.0034146219"/>
      <!-- <inertia ixx="0.01" ixy="0.01" ixz="0.01" iyy="0.01" iyz="0.01" izz="0.01"/> -->
    </inertial>
    <visual>
      <origin rpy="0.0 0.0 0.0" xyz="0.0 0.0 0.0"/>
      <geometry>
        <mesh filename="package://centauro/centauro_urdf/meshes/hip-yaw.stl" scale="0.001 0.001 0.001"/>
      </geometry>
      <material name="dark_grey"/>
    </visual>
    <collision>
      <origin rpy="0.0 0.0 0.0" xyz="0.0 0.0 0.0"/>
      <geometry>
        <mesh filename="package://centauro/centauro_urdf/meshes/convex_hull/hip-yaw.stl" scale="0.001 0.001 0.001"/>
      </geometry>
    </collision>
  </link>
  <link name="hip2_3">
    <inertial>
      <origin xyz="2.57966e-05 0.1810266 0.085669756"/>
      <mass value="2.7264471"/>
      <!-- org: 4.5 -->
      <inertia ixx="0.04851869" ixy="-4.11894e-05" ixz="-1.68778e-05" iyy="0.004242055" iyz="0.0032243188" izz="0.04825583"/>
      <!-- <inertia ixx="0.01" ixy="0.01" ixz="0.01" iyy="0.01" iyz="0.01" izz="0.01"/> -->
    </inertial>
    <visual>
      <origin rpy="0.0 0.0 0.0" xyz="0.0 0.0 0.0"/>
      <geometry>
        <mesh filename="package://centauro/centauro_urdf/meshes/hip-pitch.stl" scale="0.001 0.001 0.001"/>
      </geometry>
    </visual>
    <collision>
      <origin rpy="0.0 0.0 0.0" xyz="0.0 0.0 0.0"/>
      <geometry>
        <mesh filename="package://centauro/centauro_urdf/meshes/convex_hull/hip-pitch.stl" scale="0.001 0.001 0.001"/>
      </geometry>
    </collision>
  </link>
  <link name="knee_3">
    <inertial>
      <origin xyz="0.10881667 0.0001089081 -0.022638996"/>
      <mass value="1.9356754"/>
      <!-- org: 3.5, foot un modeled-->
      <inertia ixx="0.0030534242" ixy="-4.22079e-05" ixz="0.0013679297" iyy="0.019603321" iyz="6.9941e-06" izz="0.019849817"/>
      <!--	<inertia ixx="0.01" ixy="0.01" ixz="0.01" iyy="0.01" iyz="0.01" izz="0.01"/>  -->
    </inertial>
    <visual>
      <origin rpy="0.0 0.0 0.0" xyz="0.0 0.0 0.0"/>
      <geometry>
        <mesh filename="package://centauro/centauro_urdf/meshes/knee.stl" scale="0.001 0.001 0.001"/>
      </geometry>
      <material name="dark_grey"/>
    </visual>
    <collision>
      <origin rpy="0.0 0.0 0.0" xyz="0.0 0.0 0.0"/>
      <geometry>
        <mesh filename="package://centauro/centauro_urdf/meshes/convex_hull/knee.stl" scale="0.001 0.001 0.001"/>
      </geometry>
    </collision>
  </link>
  <link name="ankle1_3">
    <inertial>
      <origin xyz="0.032137318 9.73572e-05 -0.0044222206"/>
      <mass value="1.2380744"/>
      <!-- org: 3.5, foot un modeled-->
      <inertia ixx="0.0015610452" ixy="3.30597e-05" ixz="-0.0001314174" iyy="0.0037423211" iyz="-2.12589e-05" izz="0.0038312442"/>
      <!--	<inertia ixx="0.01" ixy="0.01" ixz="0.01" iyy="0.01" iyz="0.01" izz="0.01"/>  -->
    </inertial>
    <visual>
      <origin rpy="0.0 0.0 0.0" xyz="0.0 0.0 0.0"/>
      <geometry>
        <mesh filename="package://centauro/centauro_urdf/meshes/ankle-pitch.stl" scale="0.001 0.001 0.001"/>
      </geometry>
    </visual>
    <collision>
      <origin rpy="0.0 0.0 0.0" xyz="0.0 0.0 0.0"/>
      <geometry>
        <mesh filename="package://centauro/centauro_urdf/meshes/convex_hull/ankle-pitch.stl" scale="0.001 0.001 0.001"/>
      </geometry>
    </collision>
  </link>
  <link name="ankle2_3">
    <inertial>
      <origin xyz="0.0004435803 0.0004389911 0.19392092"/>
      <mass value="1.1565926"/>
      <!-- org: 3.5, foot un modeled-->
      <inertia ixx="0.0049019475" ixy="4.3032e-06" ixz="3.46491e-05" iyy="0.0038724162" iyz="1.7099e-05" izz="0.0021783198"/>
    </inertial>
    <visual>
      <origin rpy="0.0 0.0 0.0" xyz="0.0 0.0 0.0"/>
      <geometry>
        <mesh filename="package://centauro/centauro_urdf/meshes/ankle-yaw.stl" scale="0.001 0.001 0.001"/>
      </geometry>
      <material name="dark_grey"/>
    </visual>
    <collision>
      <origin rpy="0.0 0.0 0.0" xyz="0.0 0.0 0.0"/>
      <geometry>
        <mesh filename="package://centauro/centauro_urdf/meshes/convex_hull/ankle-yaw.stl" scale="0.001 0.001 0.001"/>
      </geometry>
    </collision>
  </link>
  <link name="wheel_3">
    <inertial>
      <origin xyz="0.0 0.0 0.0024271906"/>
      <mass value="1.7289003"/>
      <!-- org: 3.5, foot un modeled-->
      <inertia ixx="0.0046864297" ixy="0.0" ixz="0.0" iyy="0.0046713489" iyz="0.0" izz="0.0053126029"/>
    </inertial>
    <visual>
      <origin rpy="0.0 0.0 0.0" xyz="0.0 0.0 0.0"/>
      <geometry>
        <mesh filename="package://centauro/centauro_urdf/meshes/wheel.stl" scale="0.001 0.001 0.001"/>
      </geometry>
      <material name="black"/>
    </visual>
    <collision>
      <origin rpy="0.0 0.0 0.0" xyz="0.0 0.0 0.0"/>
      <geometry>
        <mesh filename="package://centauro/centauro_urdf/meshes/convex_hull/wheel.stl" scale="0.001 0.001 0.001"/>
      </geometry>
    </collision>
  </link>
  <joint name="hip_yaw_3" type="revolute">
    <parent link="pelvis"/>
    <child link="hip1_3"/>
    <origin rpy="3.14159265359 0.0 2.63449395494" xyz="-0.225 0.125 0.11"/>
    <axis xyz="0 0 1"/>
    <limit effort="304" lower="-2.35619449" upper="0.78539816" velocity="8.8"/>
  </joint>
  <joint name="hip_pitch_3" type="revolute">
    <parent link="hip1_3"/>
    <child link="hip2_3"/>
    <origin rpy="1.57079632679 0.0 2.63449395494" xyz="0.0 0.0 0.059"/>
    <axis xyz="0 0 1"/>
    <limit effort="304" lower="-2.09439510" upper="2.09439510" velocity="8.8"/>
  </joint>
  <joint name="knee_pitch_3" type="revolute">
    <parent link="hip2_3"/>
    <child link="knee_3"/>
    <origin rpy="3.14159265359 0.0 1.57079632679" xyz="0.0 0.3 -0.0036"/>
    <axis xyz="0 0 1"/>
    <limit effort="304" lower="-2.61799388" upper="2.61799388" velocity="8.8"/>
  </joint>
  <joint name="ankle_pitch_3" type="revolute">
    <parent link="knee_3"/>
    <child link="ankle1_3"/>
    <origin rpy="3.14159265359 0.0 0.0" xyz="0.2 0.0 -0.10015"/>
    <axis xyz="0 0 1"/>
    <limit effort="147" lower="-2.61799388" upper="2.61799388" velocity="8.1"/>
  </joint>
  <joint name="ankle_yaw_3" type="revolute">
    <parent link="ankle1_3"/>
    <child link="ankle2_3"/>
    <origin rpy="1.57079632679 0.0 1.57079632679" xyz="0.0 0.0 0.0"/>
    <axis xyz="0 0 1"/>
    <limit effort="35" lower="-2.79252680" upper="2.79252680" velocity="20.0"/>
  </joint>
  <joint name="j_wheel_3" type="continuous">
    <parent link="ankle2_3"/>
    <child link="wheel_3"/>
    <origin rpy="1.57079632679 0.0 0.0" xyz="0.0 0.00085 0.235"/>
    <axis xyz="0 0 1"/>
    <limit effort="35" velocity="20.0"/>
  </joint>
  <!-- /actuators -->
  <link name="hip1_4">
    <inertial>
      <origin xyz="0.010214199 -0.018348359 0.038090987"/>
      <mass value="1.9194403"/>
      <!-- org: 2 -->
      <inertia ixx="0.0047439572" ixy="0.0005747047" ixz="-0.0003784138" iyy="0.0040551878" iyz="0.0007407508" izz="0.0034146219"/>
      <!-- <inertia ixx="0.01" ixy="0.01" ixz="0.01" iyy="0.01" iyz="0.01" izz="0.01"/> -->
    </inertial>
    <visual>
      <origin rpy="0.0 0.0 4.15579005089" xyz="0.0 0.0 0.0"/>
      <geometry>
        <mesh filename="package://centauro/centauro_urdf/meshes/hip-yaw.stl" scale="0.001 0.001 0.001"/>
      </geometry>
      <material name="dark_grey"/>
    </visual>
    <collision>
      <origin rpy="0.0 0.0 4.15579005089" xyz="0.0 0.0 0.0"/>
      <geometry>
        <mesh filename="package://centauro/centauro_urdf/meshes/convex_hull/hip-yaw.stl" scale="0.001 0.001 0.001"/>
      </geometry>
    </collision>
  </link>
  <link name="hip2_4">
    <inertial>
      <origin xyz="2.57966e-05 0.1810266 0.085669756"/>
      <mass value="2.7264471"/>
      <!-- org: 4.5 -->
      <inertia ixx="0.04851869" ixy="-4.11894e-05" ixz="-1.68778e-05" iyy="0.004242055" iyz="0.0032243188" izz="0.04825583"/>
      <!-- <inertia ixx="0.01" ixy="0.01" ixz="0.01" iyy="0.01" iyz="0.01" izz="0.01"/> -->
    </inertial>
    <visual>
      <origin rpy="0.0 0.0 0.0" xyz="0.0 0.0 0.0"/>
      <geometry>
        <mesh filename="package://centauro/centauro_urdf/meshes/hip-pitch.stl" scale="0.001 0.001 0.001"/>
      </geometry>
    </visual>
    <collision>
      <origin rpy="0.0 0.0 0.0" xyz="0.0 0.0 0.0"/>
      <geometry>
        <mesh filename="package://centauro/centauro_urdf/meshes/convex_hull/hip-pitch.stl" scale="0.001 0.001 0.001"/>
      </geometry>
    </collision>
  </link>
  <link name="knee_4">
    <inertial>
      <origin xyz="0.10881667 0.0001089081 -0.022638996"/>
      <mass value="1.9356754"/>
      <!-- org: 3.5, foot un modeled-->
      <inertia ixx="0.0030534242" ixy="-4.22079e-05" ixz="0.0013679297" iyy="0.019603321" iyz="6.9941e-06" izz="0.019849817"/>
      <!--	<inertia ixx="0.01" ixy="0.01" ixz="0.01" iyy="0.01" iyz="0.01" izz="0.01"/>  -->
    </inertial>
    <visual>
      <origin rpy="0.0 0.0 0.0" xyz="0.0 0.0 0.0"/>
      <geometry>
        <mesh filename="package://centauro/centauro_urdf/meshes/knee.stl" scale="0.001 0.001 0.001"/>
      </geometry>
      <material name="dark_grey"/>
    </visual>
    <collision>
      <origin rpy="0.0 0.0 0.0" xyz="0.0 0.0 0.0"/>
      <geometry>
        <mesh filename="package://centauro/centauro_urdf/meshes/convex_hull/knee.stl" scale="0.001 0.001 0.001"/>
      </geometry>
    </collision>
  </link>
  <link name="ankle1_4">
    <inertial>
      <origin xyz="0.032137318 9.73572e-05 -0.0044222206"/>
      <mass value="1.2380744"/>
      <!-- org: 3.5, foot un modeled-->
      <inertia ixx="0.0015610452" ixy="3.30597e-05" ixz="-0.0001314174" iyy="0.0037423211" iyz="-2.12589e-05" izz="0.0038312442"/>
      <!--	<inertia ixx="0.01" ixy="0.01" ixz="0.01" iyy="0.01" iyz="0.01" izz="0.01"/>  -->
    </inertial>
    <visual>
      <origin rpy="0.0 0.0 0.0" xyz="0.0 0.0 0.0"/>
      <geometry>
        <mesh filename="package://centauro/centauro_urdf/meshes/ankle-pitch.stl" scale="0.001 0.001 0.001"/>
      </geometry>
    </visual>
    <collision>
      <origin rpy="0.0 0.0 0.0" xyz="0.0 0.0 0.0"/>
      <geometry>
        <mesh filename="package://centauro/centauro_urdf/meshes/convex_hull/ankle-pitch.stl" scale="0.001 0.001 0.001"/>
      </geometry>
    </collision>
  </link>
  <link name="ankle2_4">
    <inertial>
      <origin xyz="0.0004435803 0.0004389911 0.19392092"/>
      <mass value="1.1565926"/>
      <!-- org: 3.5, foot un modeled-->
      <inertia ixx="0.0049019475" ixy="4.3032e-06" ixz="3.46491e-05" iyy="0.0038724162" iyz="1.7099e-05" izz="0.0021783198"/>
    </inertial>
    <visual>
      <origin rpy="0.0 0.0 0.0" xyz="0.0 0.0 0.0"/>
      <geometry>
        <mesh filename="package://centauro/centauro_urdf/meshes/ankle-yaw.stl" scale="0.001 0.001 0.001"/>
      </geometry>
      <material name="dark_grey"/>
    </visual>
    <collision>
      <origin rpy="0.0 0.0 0.0" xyz="0.0 0.0 0.0"/>
      <geometry>
        <mesh filename="package://centauro/centauro_urdf/meshes/convex_hull/ankle-yaw.stl" scale="0.001 0.001 0.001"/>
      </geometry>
    </collision>
  </link>
  <link name="wheel_4">
    <inertial>
      <origin xyz="0.0 0.0 0.0024271906"/>
      <mass value="1.7289003"/>
      <!-- org: 3.5, foot un modeled-->
      <inertia ixx="0.0046864297" ixy="0.0" ixz="0.0" iyy="0.0046713489" iyz="0.0" izz="0.0053126029"/>
    </inertial>
    <visual>
      <origin rpy="0.0 0.0 0.0" xyz="0.0 0.0 0.0"/>
      <geometry>
        <mesh filename="package://centauro/centauro_urdf/meshes/wheel.stl" scale="0.001 0.001 0.001"/>
      </geometry>
      <material name="black"/>
    </visual>
    <collision>
      <origin rpy="0.0 0.0 0.0" xyz="0.0 0.0 0.0"/>
      <geometry>
        <mesh filename="package://centauro/centauro_urdf/meshes/convex_hull/wheel.stl" scale="0.001 0.001 0.001"/>
      </geometry>
    </collision>
  </link>
  <joint name="hip_yaw_4" type="revolute">
    <parent link="pelvis"/>
    <child link="hip1_4"/>
    <origin rpy="3.14159265359 0.0 3.64869135224" xyz="-0.225 -0.125 0.11"/>
    <axis xyz="0 0 1"/>
    <limit effort="304" lower="-0.78539816" upper="2.35619449" velocity="8.8"/>
  </joint>
  <joint name="hip_pitch_4" type="revolute">
    <parent link="hip1_4"/>
    <child link="hip2_4"/>
    <origin rpy="1.57079632679 0.0 0.50709869865" xyz="0.0 0.0 0.059"/>
    <axis xyz="0 0 1"/>
    <limit effort="304" lower="-2.09439510" upper="2.09439510" velocity="8.8"/>
  </joint>
  <joint name="knee_pitch_4" type="revolute">
    <parent link="hip2_4"/>
    <child link="knee_4"/>
    <origin rpy="3.14159265359 0.0 1.57079632679" xyz="0.0 0.3 -0.0036"/>
    <axis xyz="0 0 1"/>
    <limit effort="304" lower="-2.61799388" upper="2.61799388" velocity="8.8"/>
  </joint>
  <joint name="ankle_pitch_4" type="revolute">
    <parent link="knee_4"/>
    <child link="ankle1_4"/>
    <origin rpy="3.14159265359 0.0 0.0" xyz="0.2 0.0 -0.10015"/>
    <axis xyz="0 0 1"/>
    <limit effort="147" lower="-2.61799388" upper="2.61799388" velocity="8.1"/>
  </joint>
  <joint name="ankle_yaw_4" type="revolute">
    <parent link="ankle1_4"/>
    <child link="ankle2_4"/>
    <origin rpy="1.57079632679 0.0 1.57079632679" xyz="0.0 0.0 0.0"/>
    <axis xyz="0 0 1"/>
    <limit effort="35" lower="-2.79252680" upper="2.79252680" velocity="20.0"/>
  </joint>
  <joint name="j_wheel_4" type="continuous">
    <parent link="ankle2_4"/>
    <child link="wheel_4"/>
    <origin rpy="1.57079632679 0.0 0.0" xyz="0.0 0.00085 0.235"/>
    <axis xyz="0 0 1"/>
    <limit effort="35" velocity="20.0"/>
  </joint>
  <!-- /actuators -->
  <!-- /legs -->
</robot>
